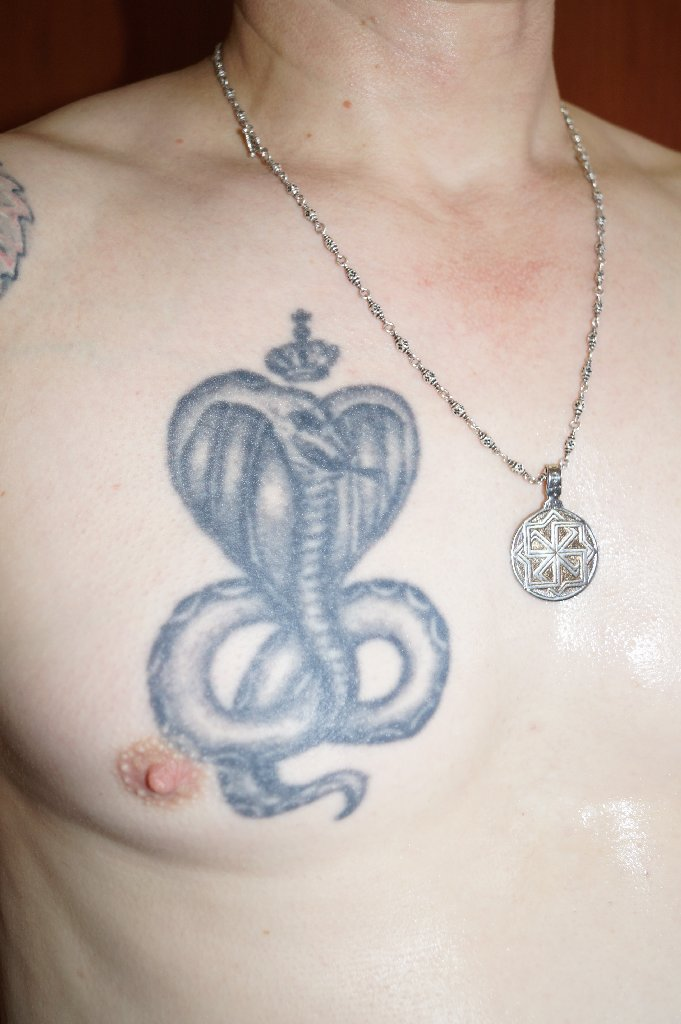tatu7_zmeya: (74, 370, 490, 786)
